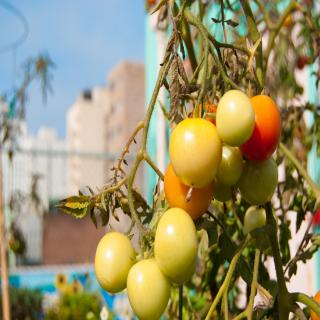tomato: (168, 116, 224, 200), (151, 208, 198, 283), (238, 91, 284, 164), (94, 230, 138, 292), (164, 160, 211, 218), (126, 258, 170, 319), (216, 89, 254, 146), (238, 156, 277, 208), (244, 206, 278, 250), (213, 140, 242, 185), (212, 175, 240, 205), (168, 261, 196, 288), (190, 100, 218, 124), (310, 289, 320, 319)
